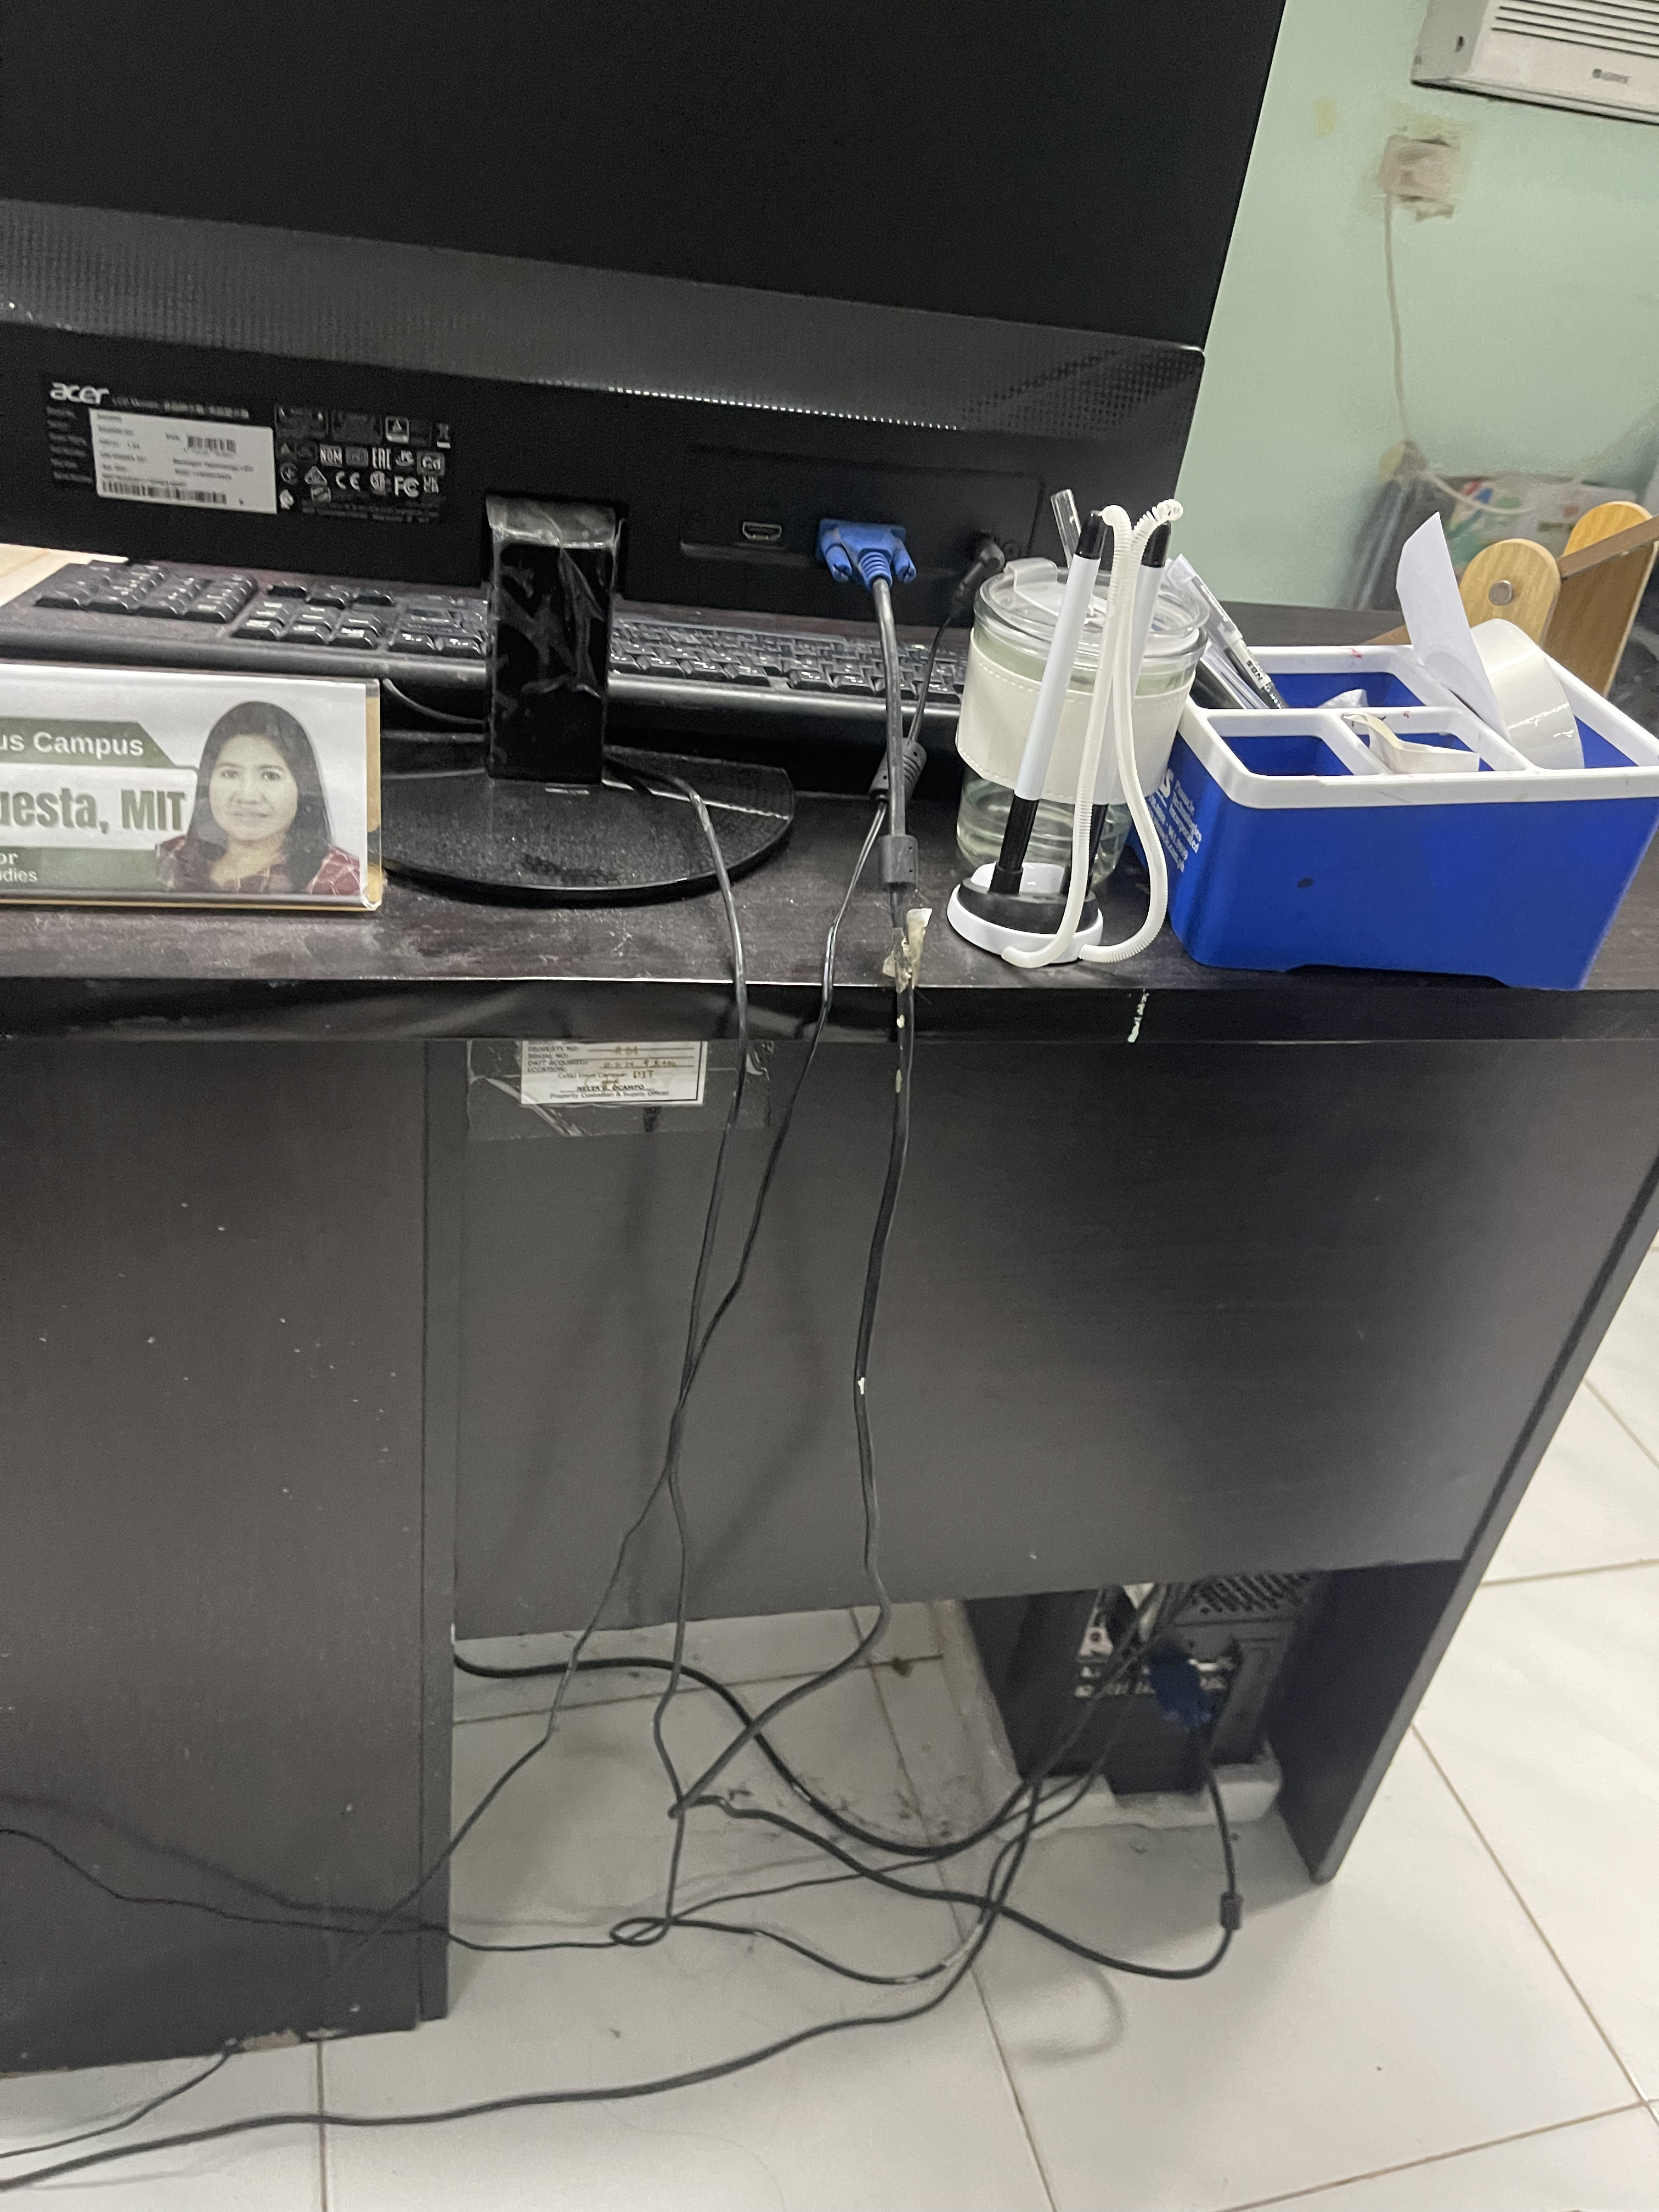table1: (5, 662, 1659, 2087)
